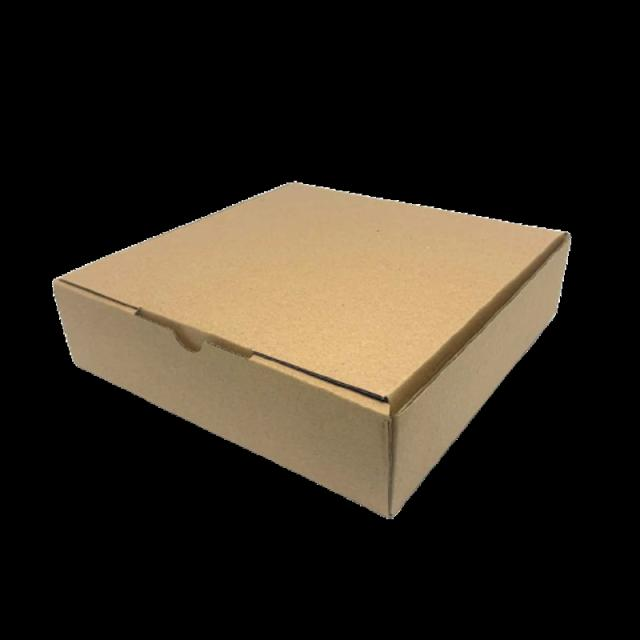Kardus kondisi bagus: (56, 181, 569, 517)
